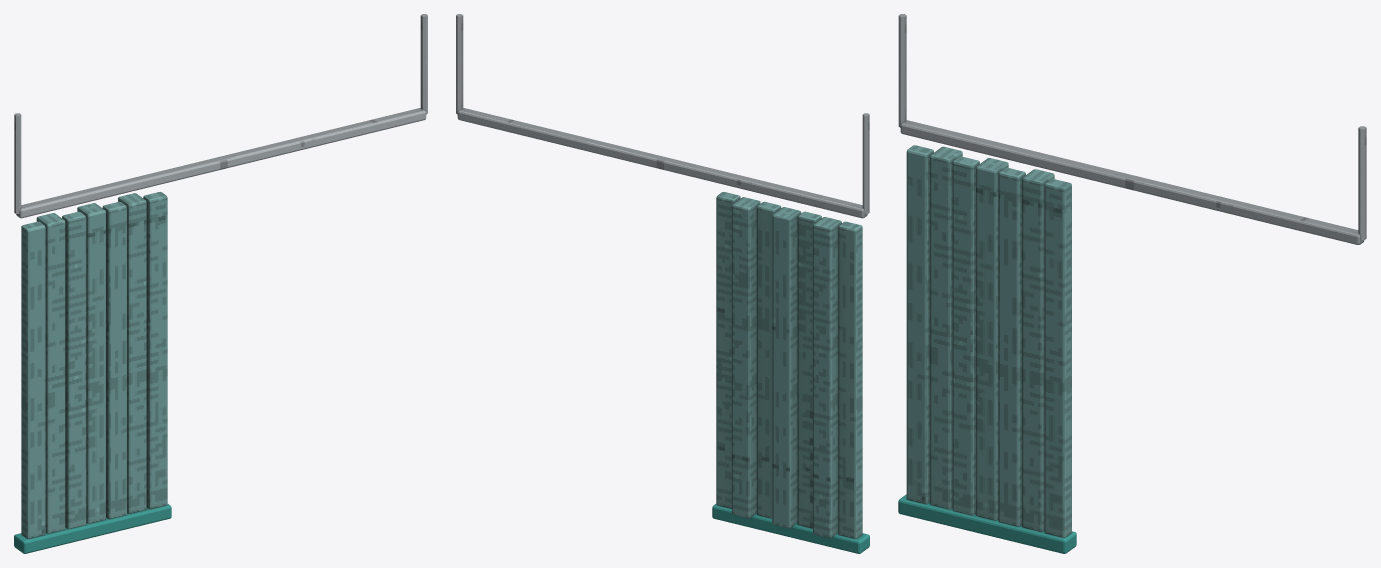
The model's file is base_med_curtain.glb.
The picture shows the model from 3 angles, left to right: view 1: azimuth 30°, elevation 25°; view 2: azimuth 150°, elevation 25°; view 3: azimuth 330°, elevation 25°; orthographic projection. The views are drawn at different scales.
Visible parts, largest first — view 1: base_med_curtain; view 2: base_med_curtain; view 3: base_med_curtain.
Boxes of the visible parts, x1,y1,x2,y2 form: base_med_curtain: (14, 14, 427, 553); base_med_curtain: (456, 14, 869, 553); base_med_curtain: (898, 14, 1366, 553).
Size of the model in its own units: 2.63 by 2.67 by 0.155.
Materials: 3 (3 with a texture image).
